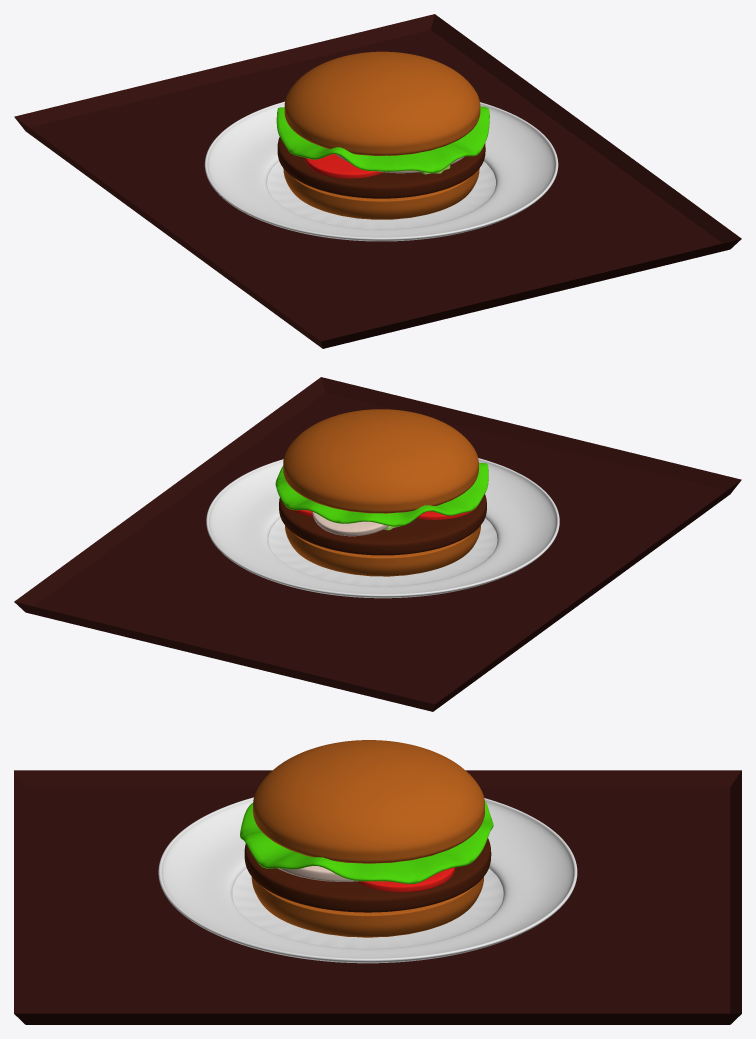
File: Hamburger.glb
3 views of the same model, one above another, from view 1: azimuth 30°, elevation 25°; view 2: azimuth 150°, elevation 25°; view 3: azimuth 270°, elevation 25° (orthographic). The views are drawn at different scales.
Parts seen in each view (by area): view 1: Plate, WhitePlate, HighBurn, Patty, Lettuce, LowBurn, Tomato1; view 2: Plate, WhitePlate, HighBurn, Patty, LowBurn, Lettuce, Onion2; view 3: Plate, WhitePlate, HighBurn, Patty, Lettuce, LowBurn, Tomato2, Oniom1.
Boxes of the visible parts, box(x1,y1,x2,y2) form: Plate: box(14, 14, 741, 348); WhitePlate: box(204, 101, 558, 241); HighBurn: box(284, 51, 480, 155); Patty: box(277, 137, 485, 198); Lettuce: box(276, 106, 489, 173); LowBurn: box(283, 168, 479, 219); Tomato1: box(305, 154, 383, 178); Plate: box(14, 377, 741, 711); WhitePlate: box(206, 458, 559, 598); HighBurn: box(283, 409, 478, 513); Patty: box(279, 494, 486, 555); LowBurn: box(285, 525, 480, 576); Lettuce: box(275, 463, 488, 526); Onion2: box(312, 511, 389, 536); Plate: box(14, 770, 741, 1024); WhitePlate: box(158, 797, 577, 963); HighBurn: box(253, 740, 484, 863); Patty: box(244, 838, 491, 912); Lettuce: box(240, 800, 493, 884); LowBurn: box(251, 877, 483, 937); Tomato2: box(356, 867, 455, 892); Oniom1: box(278, 866, 359, 881).
Size of the model in its own units: 2.73 by 0.7666 by 3.45.
